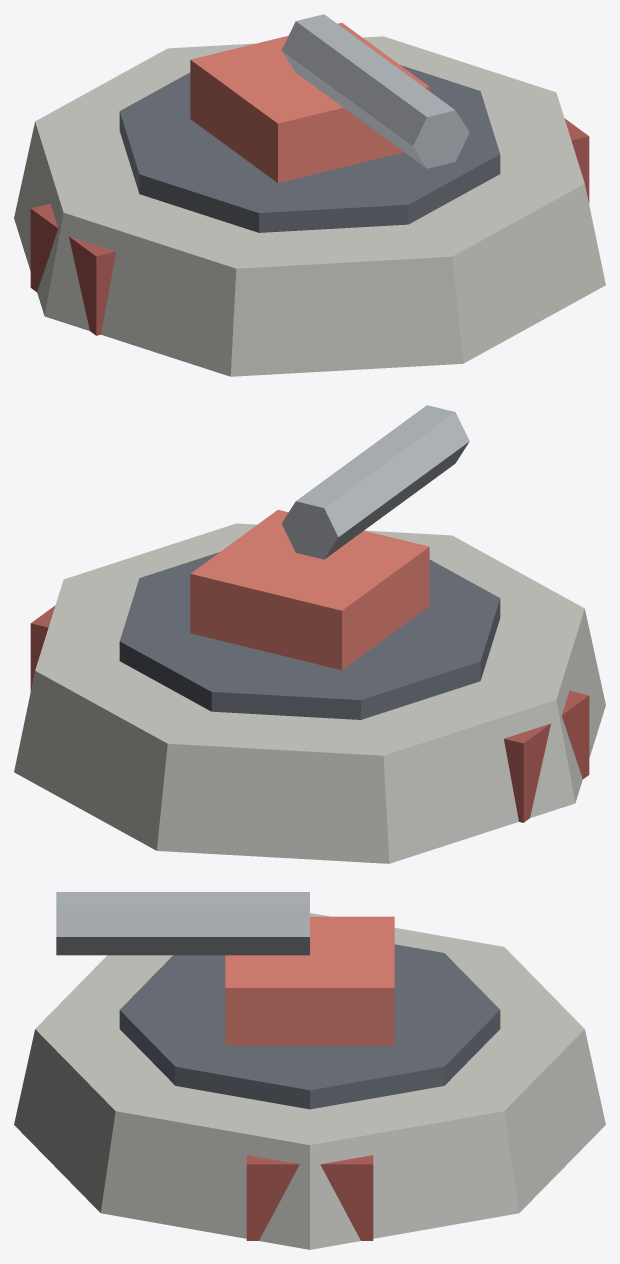
File: mortar.glb
3 views of the same model, one above another, from view 1: azimuth 30°, elevation 25°; view 2: azimuth 150°, elevation 25°; view 3: azimuth 270°, elevation 25° (orthographic). The views are drawn at different scales.
Parts seen in each view (by area): view 1: mortar, head; view 2: mortar, head; view 3: mortar, head.
Part boxes in pixels (x1=…): mortar: x1=14, y1=36, x2=605, y2=376; head: x1=190, y1=14, x2=469, y2=182; mortar: x1=14, y1=523, x2=605, y2=863; head: x1=190, y1=405, x2=469, y2=670; mortar: x1=14, y1=913, x2=605, y2=1249; head: x1=56, y1=892, x2=394, y2=1045.
Size of the model in its own units: 5.6 by 2.36 by 5.6.
